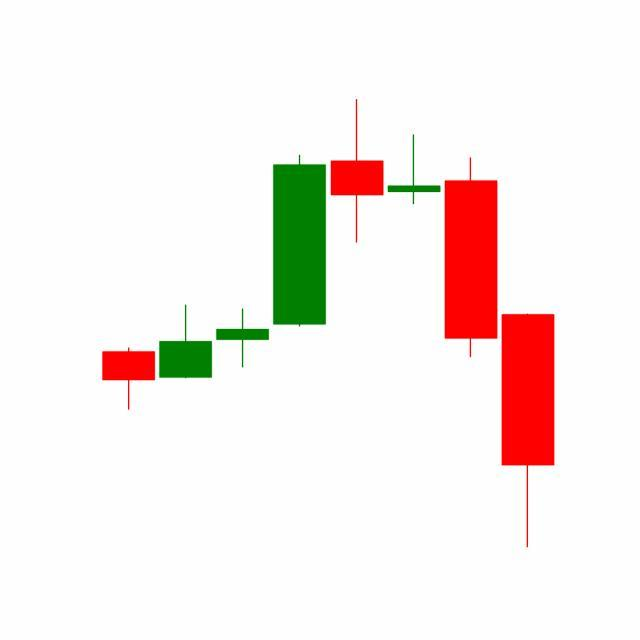Hikkake Pattern: (214, 99, 501, 372)
